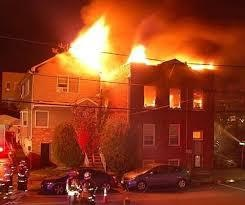fire: (63, 16, 113, 73), (174, 54, 215, 71), (126, 43, 154, 65)
